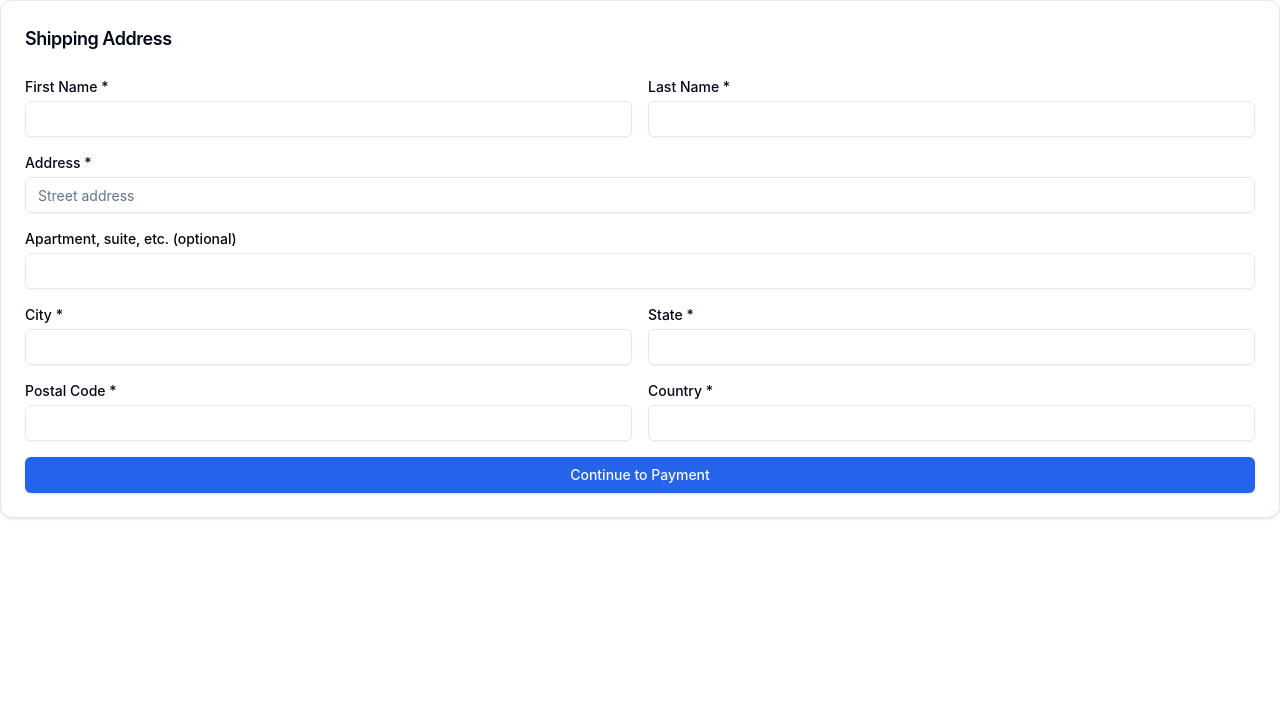
Scenario: ShippingAddressForm › should show error for missing address
Type "John" into the field with test id "shipping-first-name" at (328, 119), box [25,101,632,137]
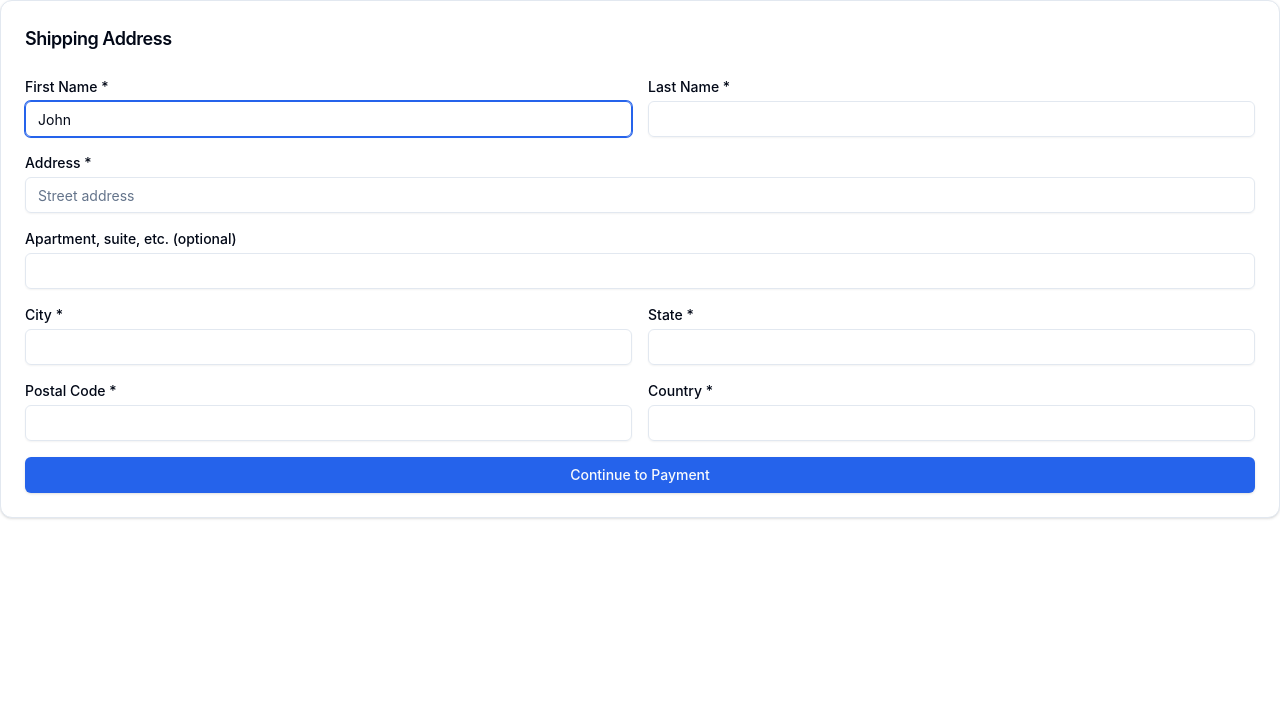
Type "Doe" into the field with test id "shipping-last-name" at (952, 119), box [648,101,1255,137]
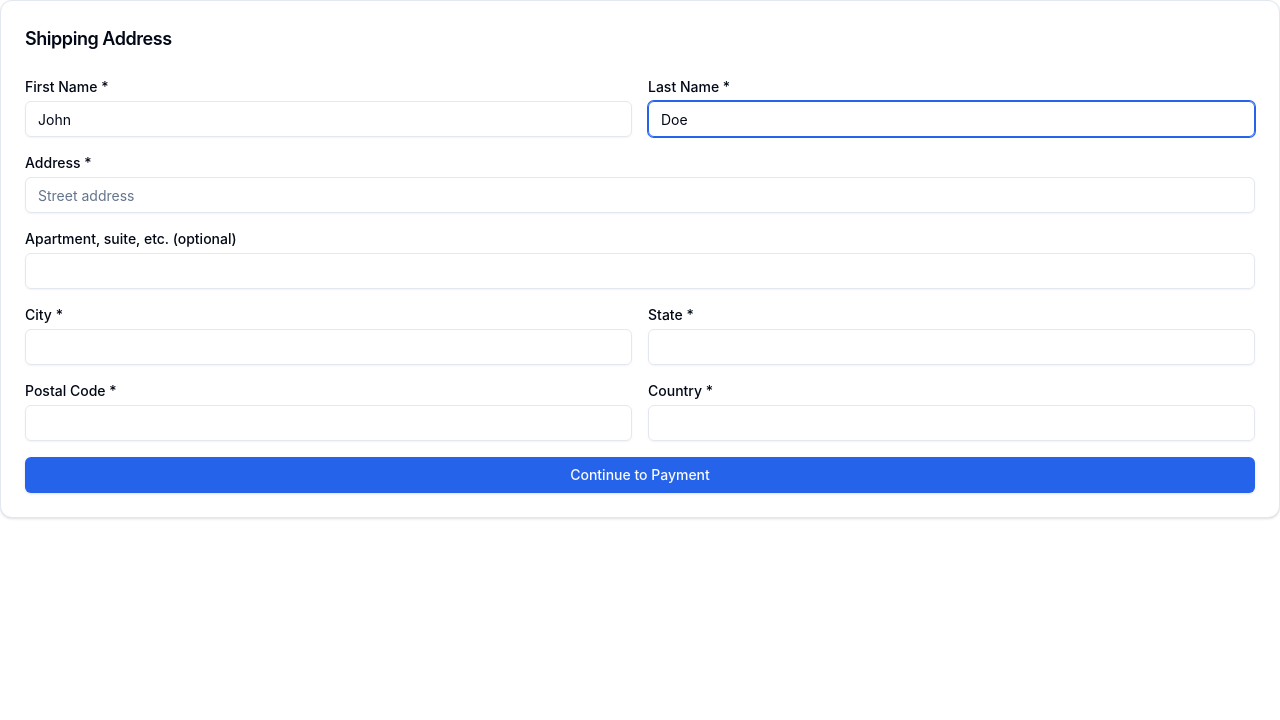
Click the button with test id "continue-to-payment" at (640, 475), box [25,457,1255,493]
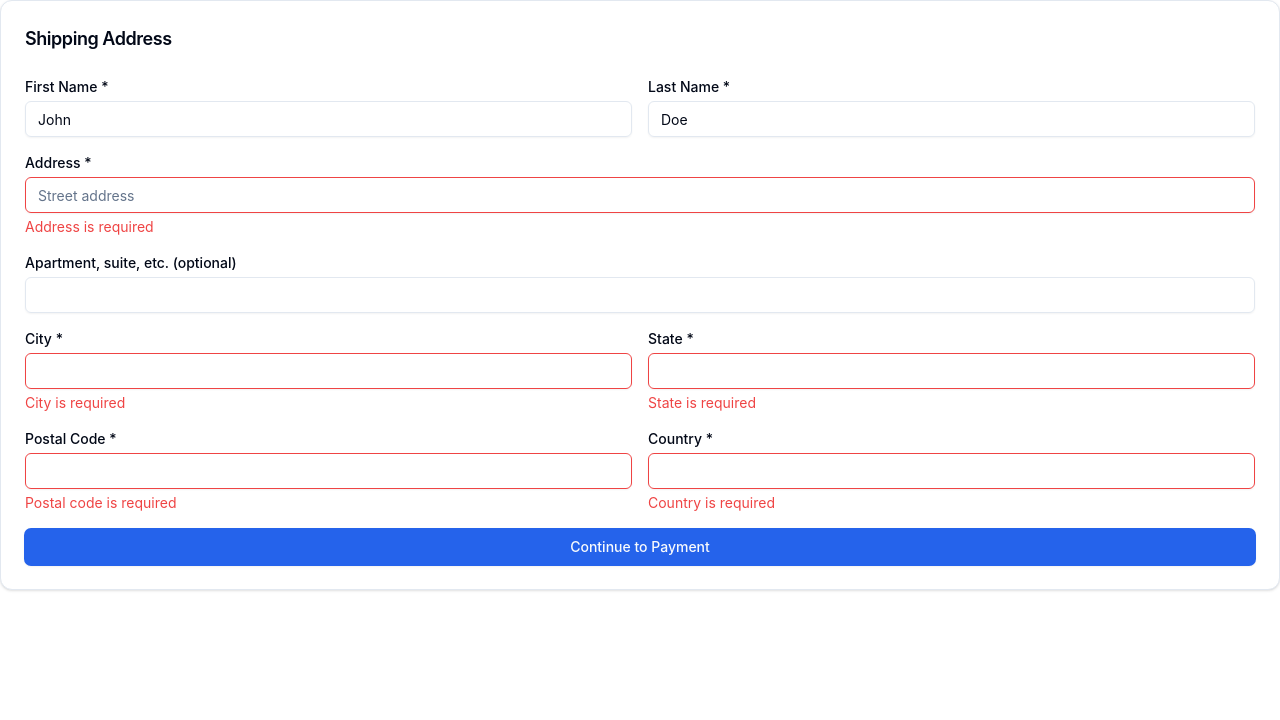
Check: the text with test id "address1-error" reads "Address is required", box [25,218,154,235]
